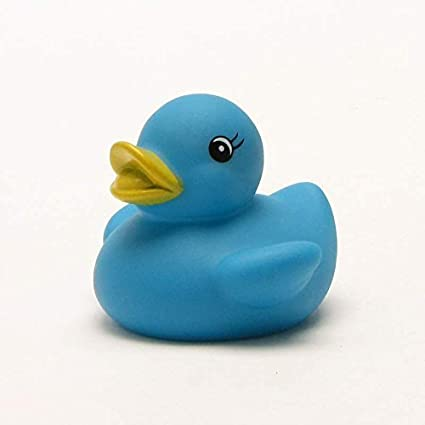Duck: (92, 90, 339, 347)
